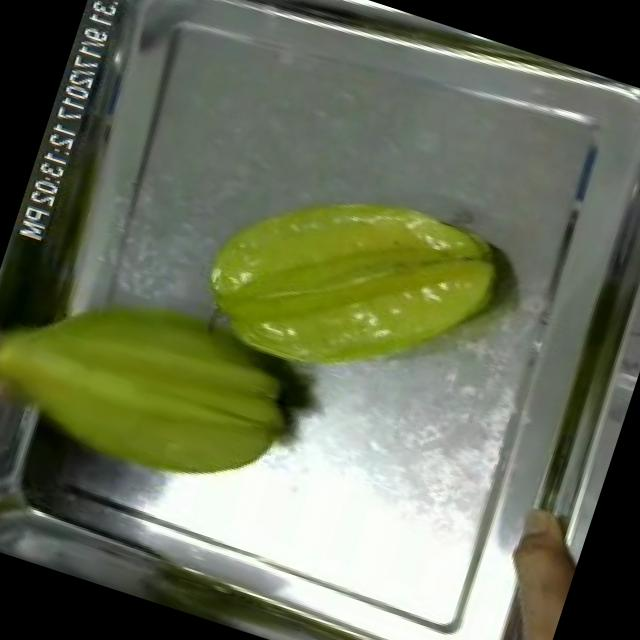fruit: (168, 133, 538, 434), (0, 239, 329, 526), (455, 494, 592, 640)
